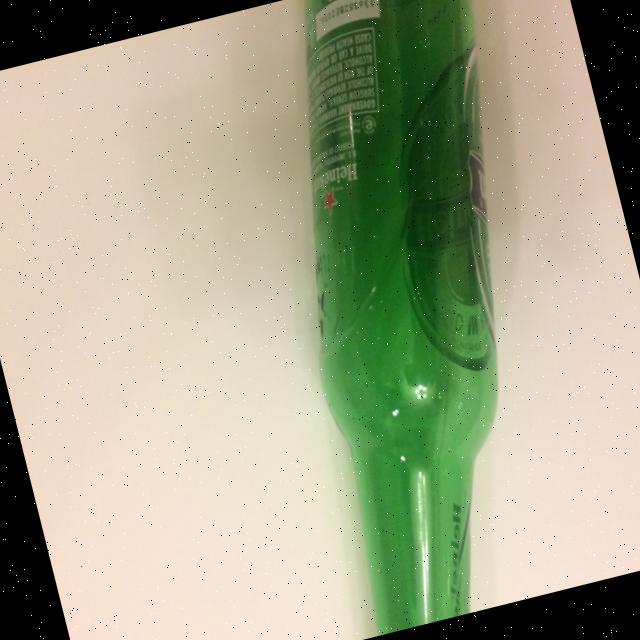glass: (221, 0, 620, 634)
